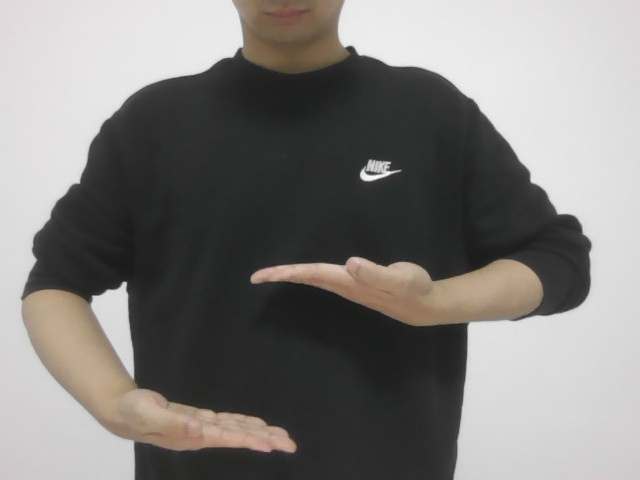happy: (119, 246, 443, 462)
